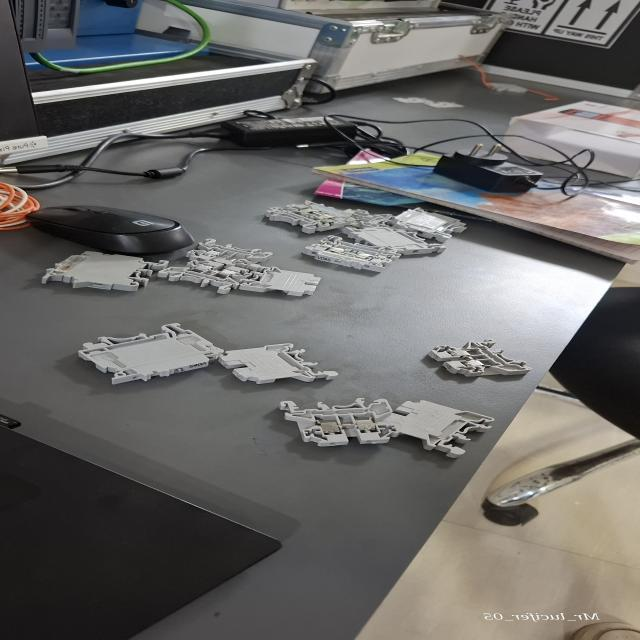Inverted: (383, 398, 501, 460), (214, 343, 346, 387), (232, 262, 330, 299)
Pass: (274, 396, 404, 447), (425, 338, 533, 380), (154, 260, 267, 294)
Reject: (181, 235, 279, 265)
